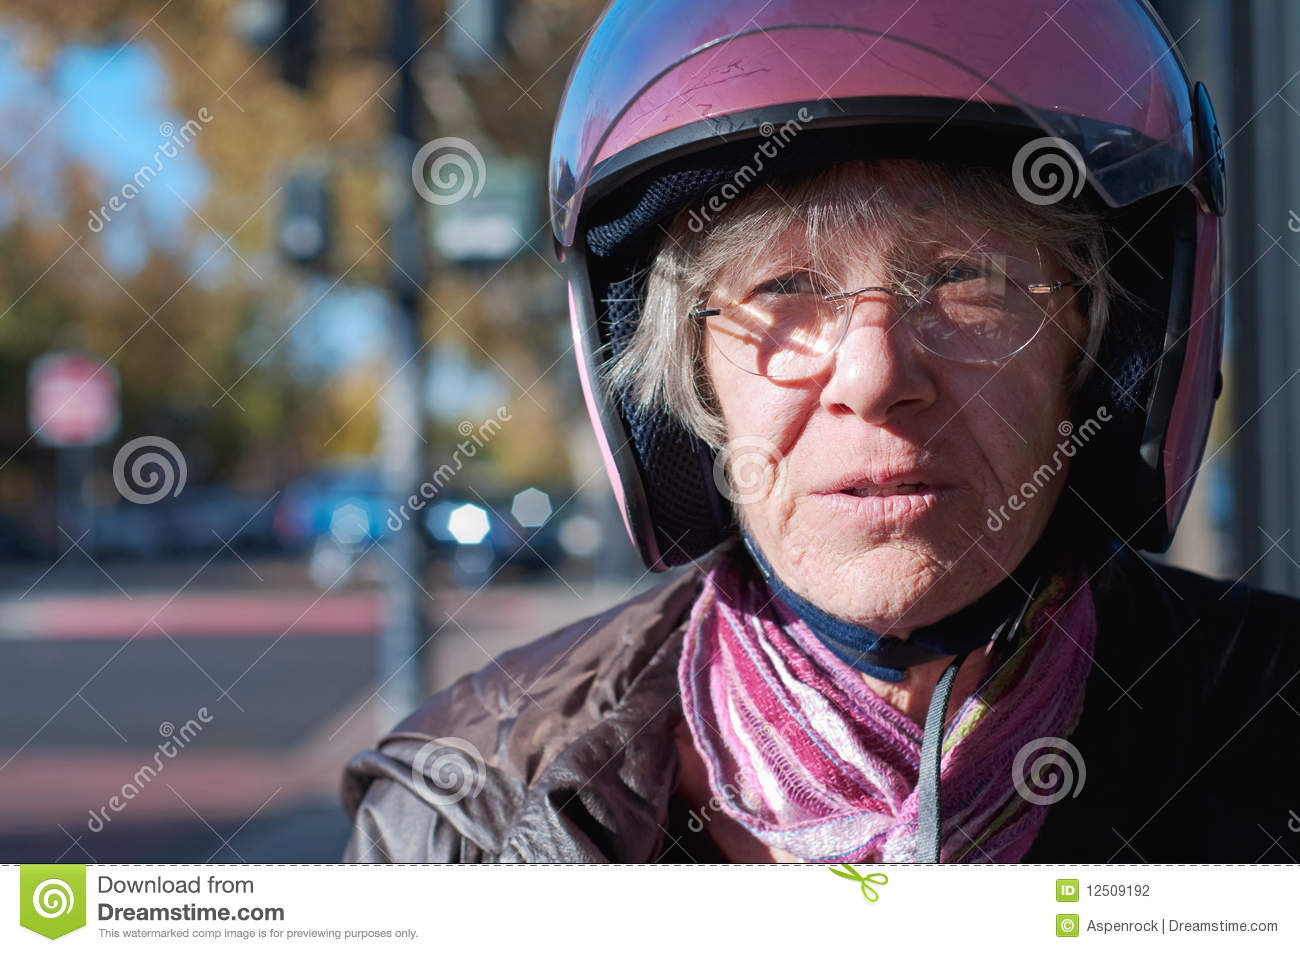helmet: (542, 3, 1220, 577)
